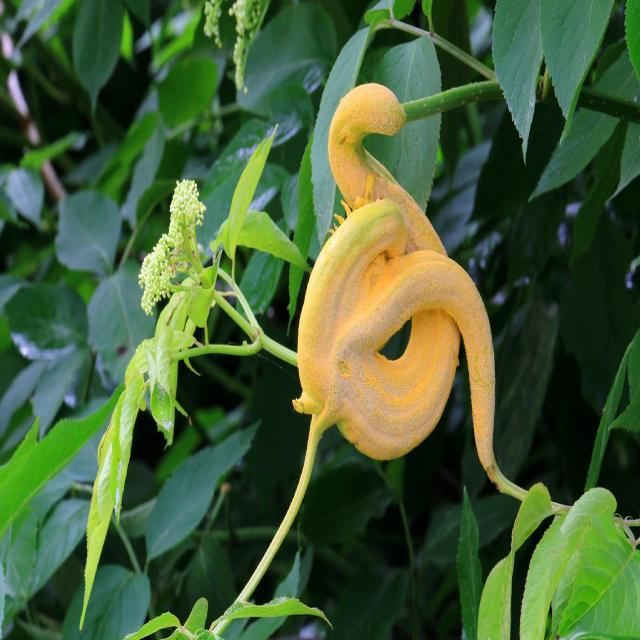Elderberry_rust: (210, 82, 504, 631)
